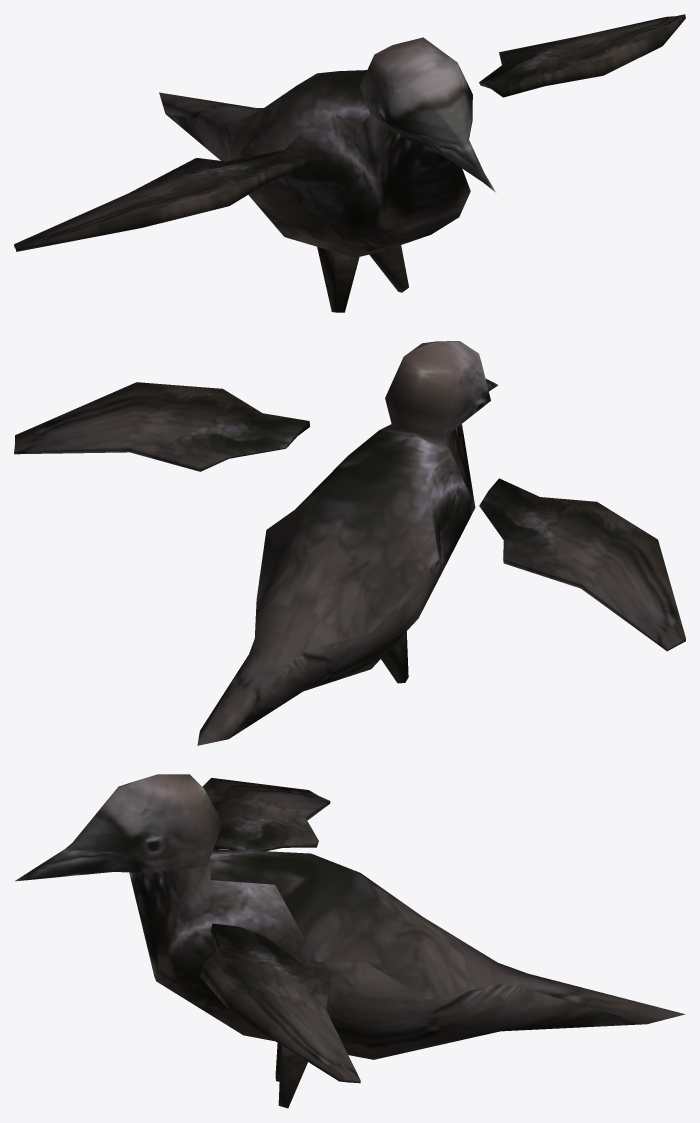
File: bird.obj
3 renders of one model, top to bottom at view 1: azimuth 30°, elevation 25°; view 2: azimuth 150°, elevation 25°; view 3: azimuth 270°, elevation 25°, orthographic. The views are drawn at different scales.
Visible parts, largest first — view 1: bird_Cube.001, Wings.002_Cube.004, Wings.001_Cube.003; view 2: bird_Cube.001, Wings.002_Cube.004, Wings.001_Cube.003; view 3: bird_Cube.001, Wings.001_Cube.003, Wings.002_Cube.004.
Part boxes in pixels (left/top/right/bottom): bird_Cube.001: left=159, top=37, right=496, bottom=312; Wings.002_Cube.004: left=14, top=149, right=313, bottom=251; Wings.001_Cube.003: left=479, top=14, right=685, bottom=97; bird_Cube.001: left=197, top=341, right=498, bottom=745; Wings.002_Cube.004: left=479, top=478, right=685, bottom=651; Wings.001_Cube.003: left=14, top=382, right=309, bottom=471; bird_Cube.001: left=15, top=774, right=685, bottom=1108; Wings.001_Cube.003: left=200, top=923, right=360, bottom=1083; Wings.002_Cube.004: left=202, top=778, right=330, bottom=851.
Size of the model in its own units: 1.41 by 0.6022 by 1.16.
1 material, 1 textured.
